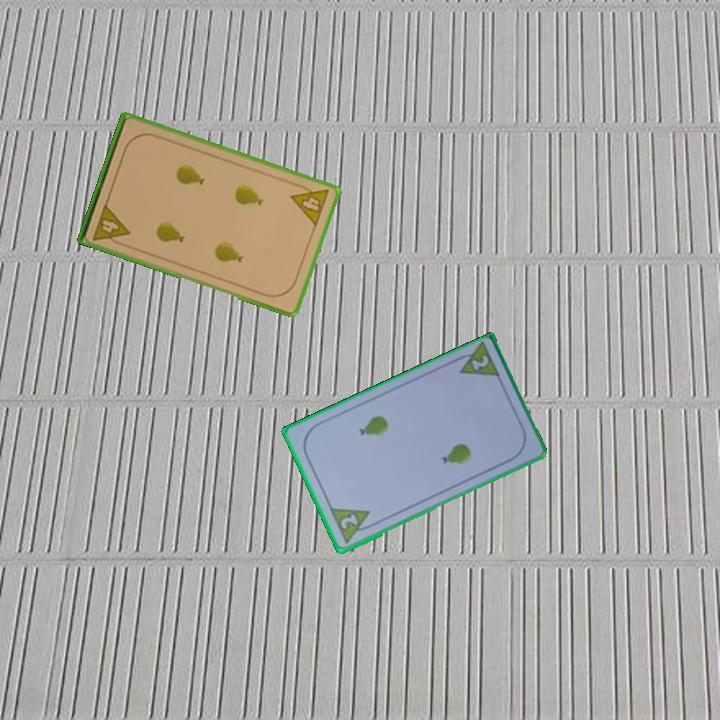2p: (326, 505, 378, 547), (467, 352, 492, 374)
4p: (287, 179, 332, 229), (89, 200, 133, 249)
